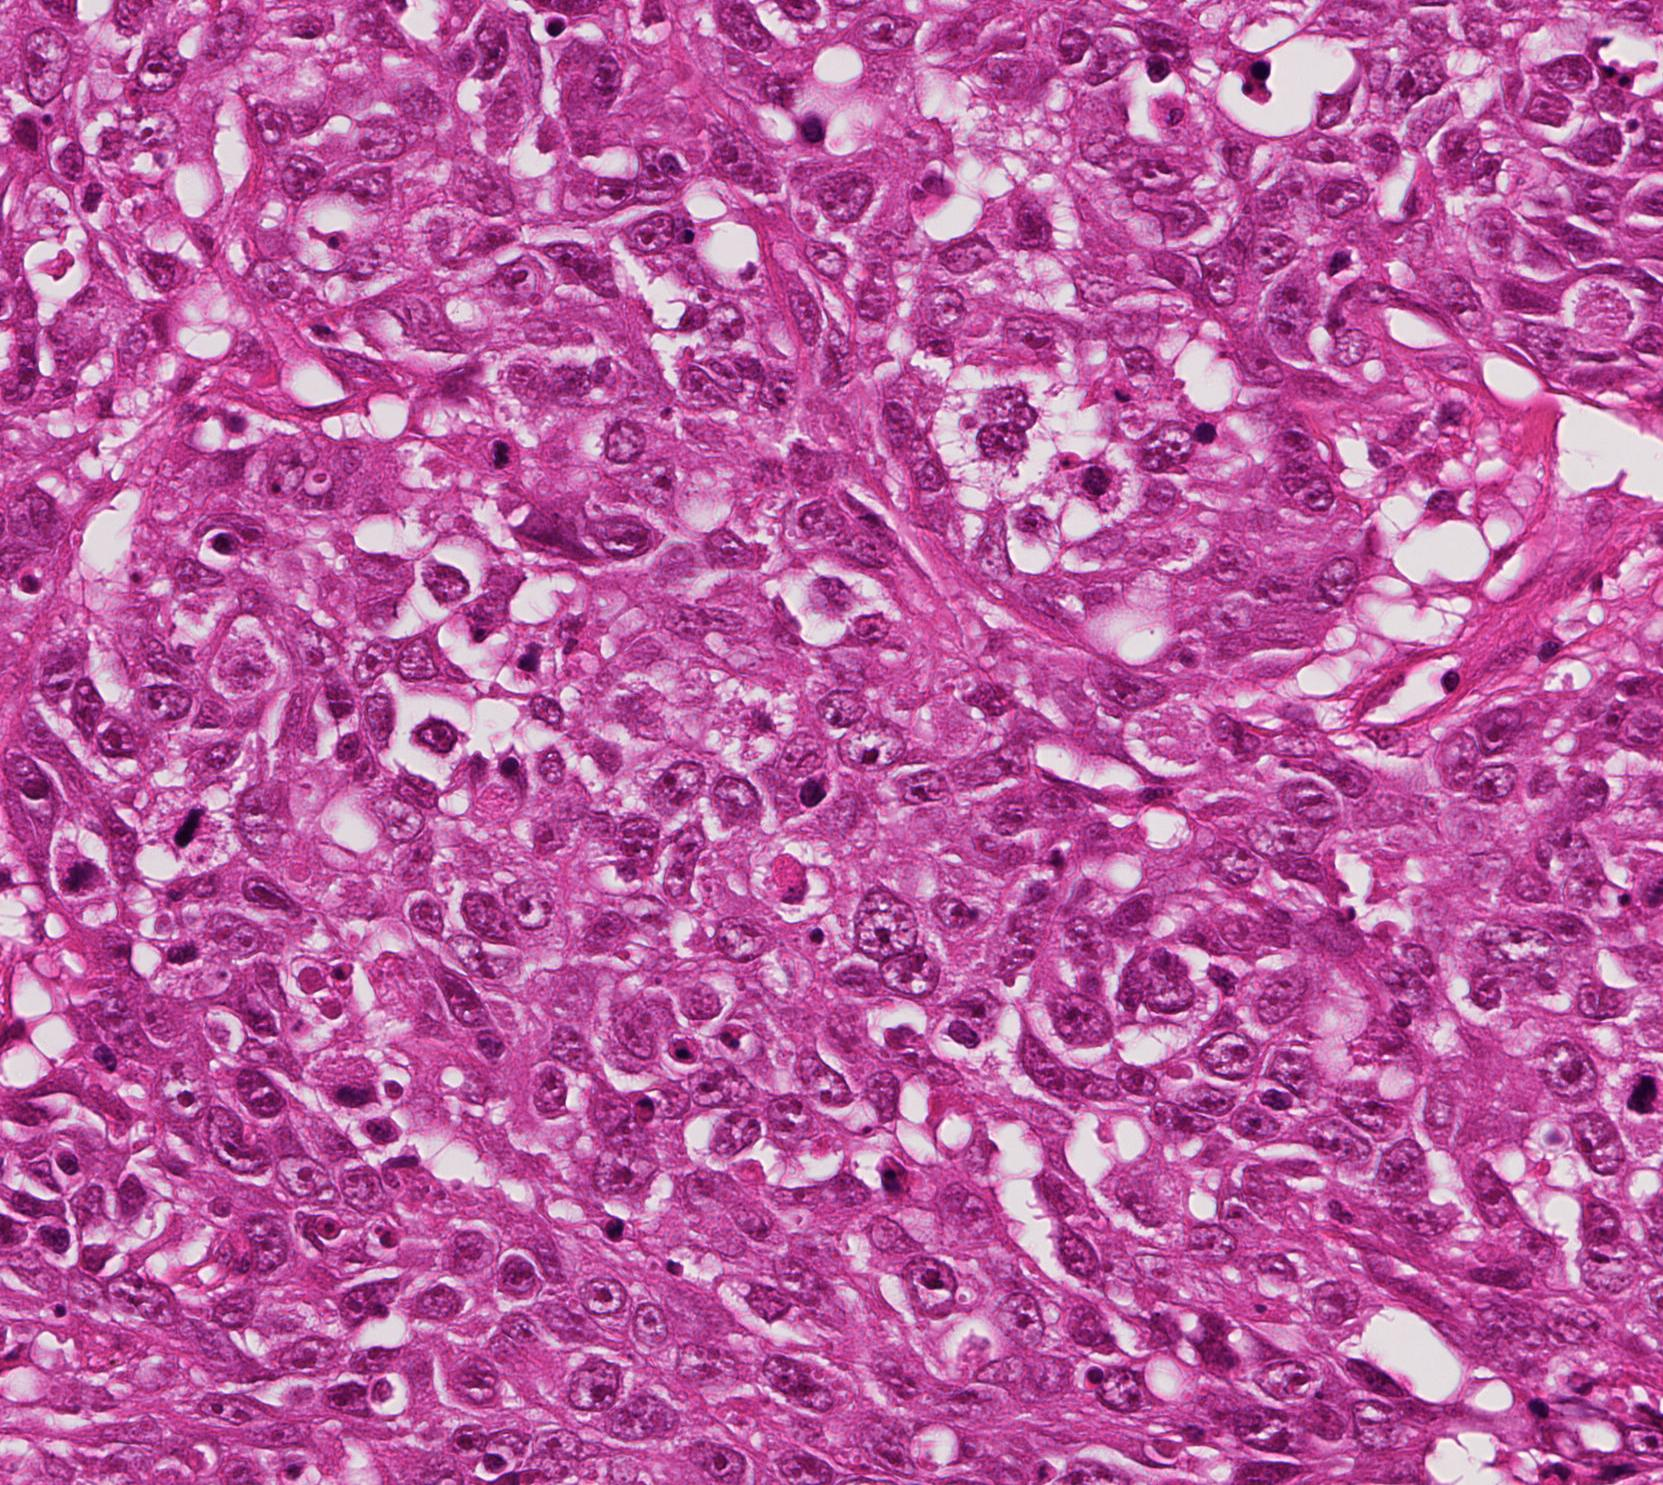mitosis: (50, 846, 110, 906), (158, 798, 218, 859), (1606, 1061, 1663, 1119)
